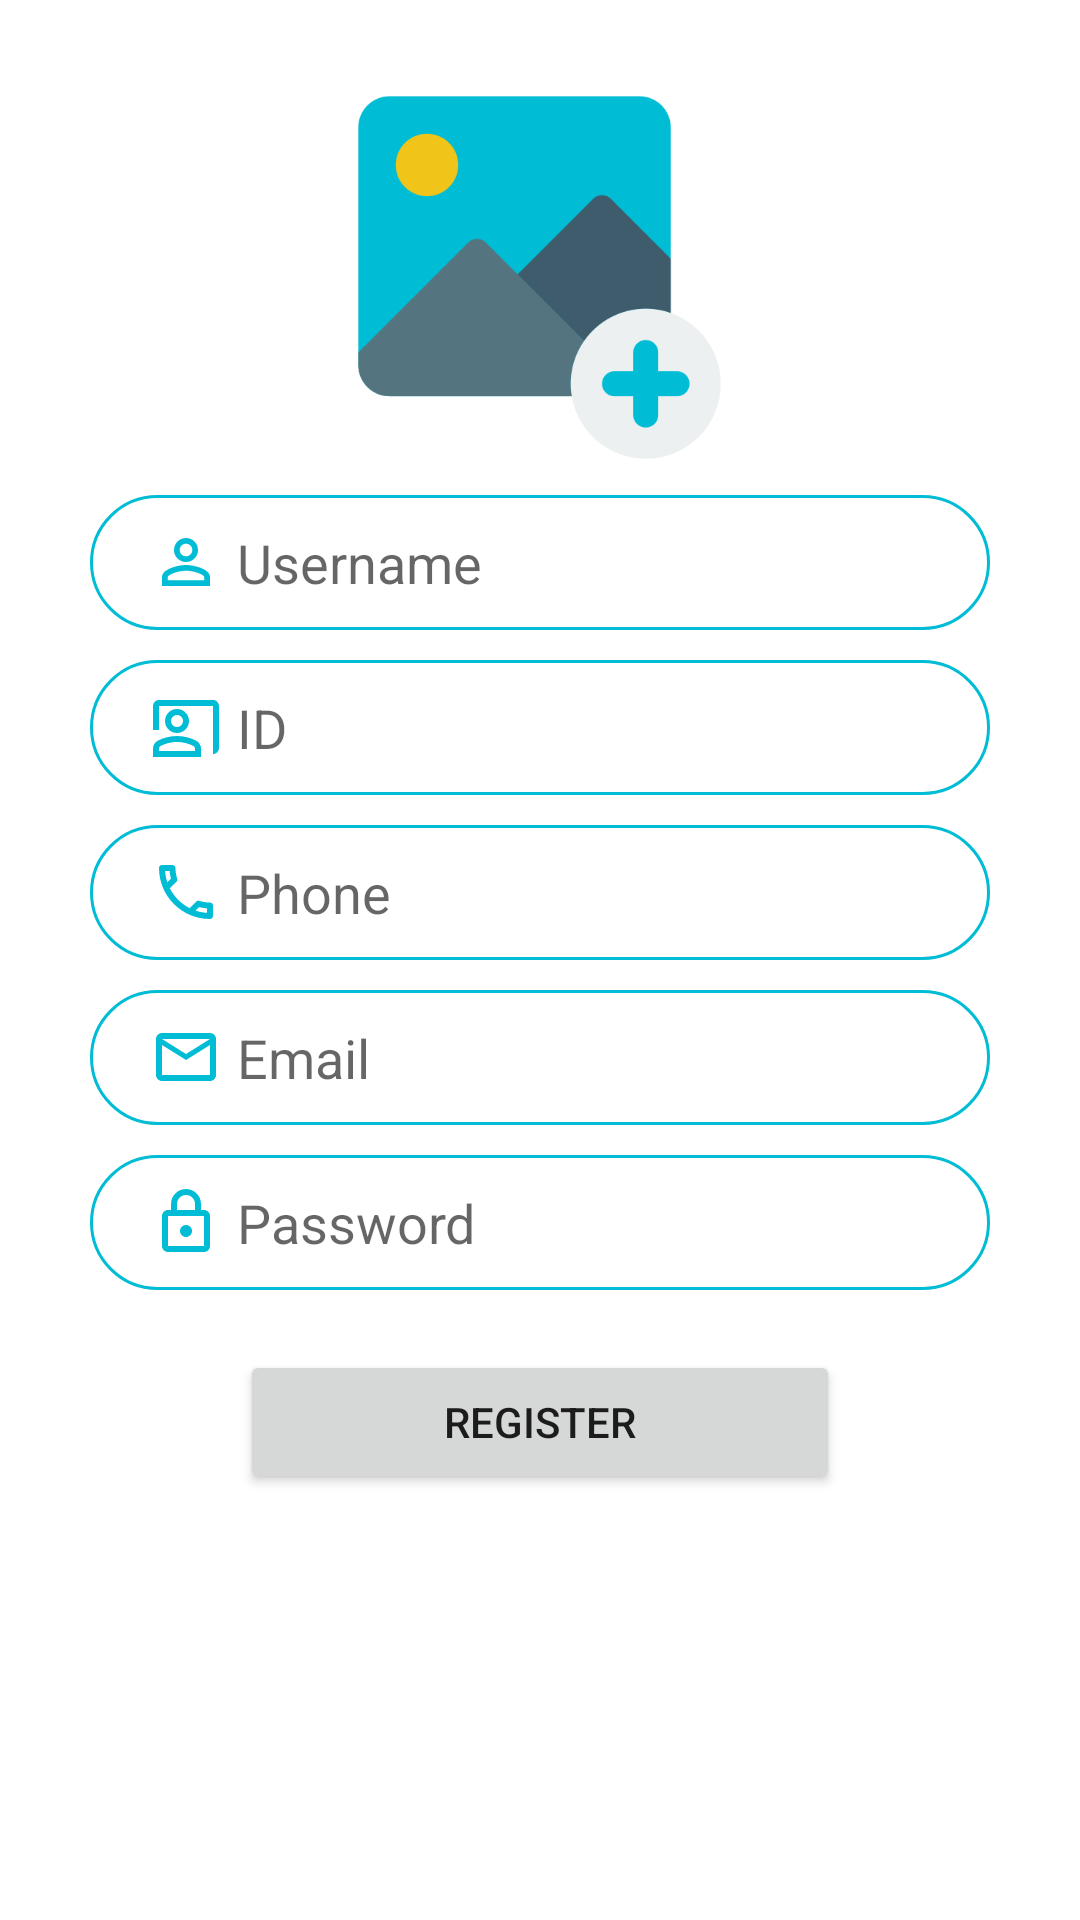

Point at icon controls on the screen. Image size 1080 x 1920, points as point (x, y).
add: point (524, 262)
